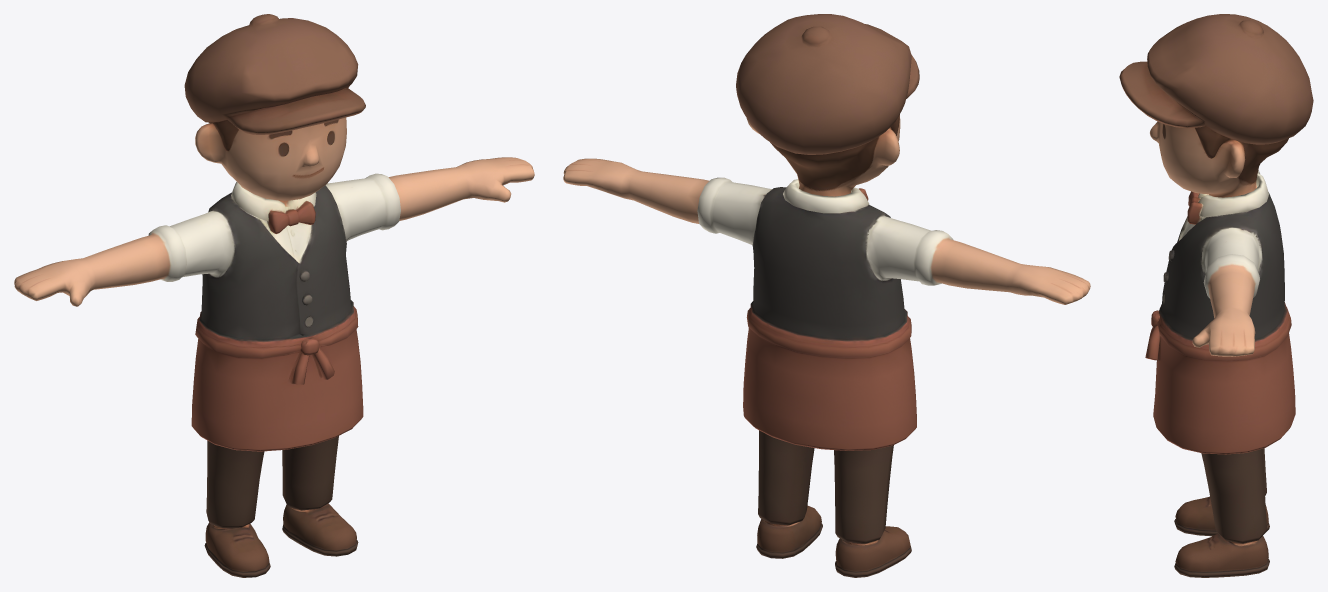
File: s4_staff_cashier_base.fbx
3 renders of one model, left to right at view 1: azimuth 30°, elevation 25°; view 2: azimuth 150°, elevation 25°; view 3: azimuth 270°, elevation 25°, orthographic.
Visible parts, largest first — view 1: owner_casualpoly; view 2: owner_casualpoly; view 3: owner_casualpoly.
Part boxes in pixels (x1,y1,x2,y2): owner_casualpoly: (14, 14, 534, 577); owner_casualpoly: (563, 14, 1090, 577); owner_casualpoly: (1119, 14, 1313, 577).
Bounding box in the file's own units: 99.95 × 98 × 32.86.
Materials: 1 (1 with a texture image).
